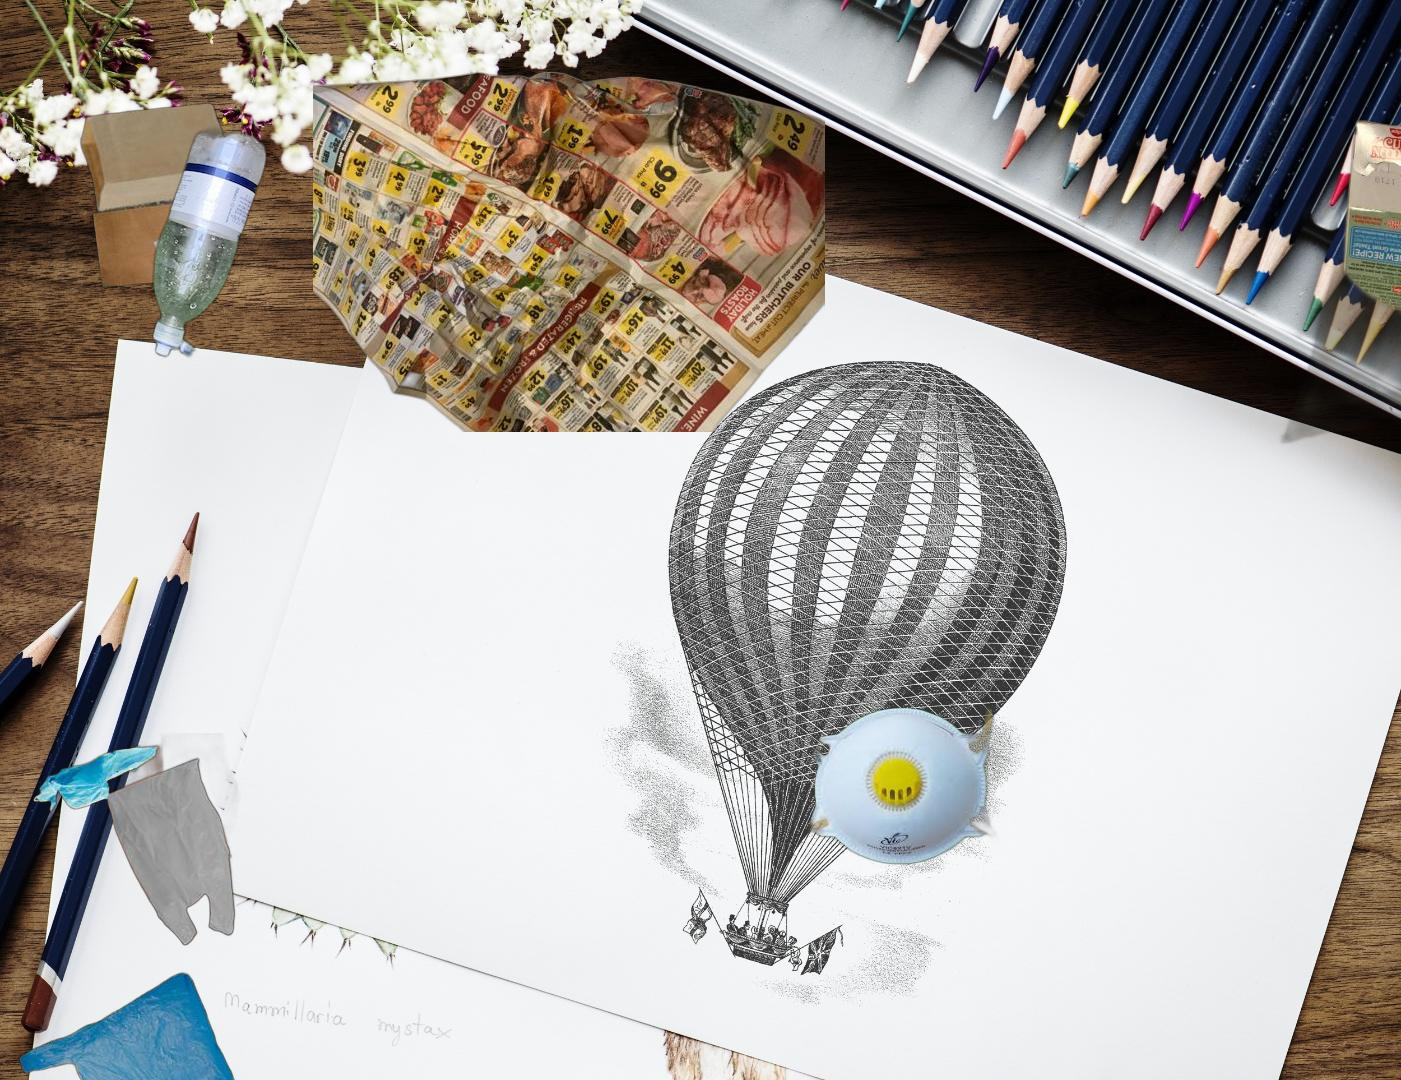metal-cans: (1295, 9, 1401, 517)
paper: (313, 68, 825, 432), (1168, 117, 1401, 471)
paper-bag: (79, 100, 238, 292)
plastic-bag: (29, 733, 244, 948), (17, 970, 243, 1080)
plastic-bottles: (147, 124, 270, 362)
trash: (800, 691, 1032, 885)
